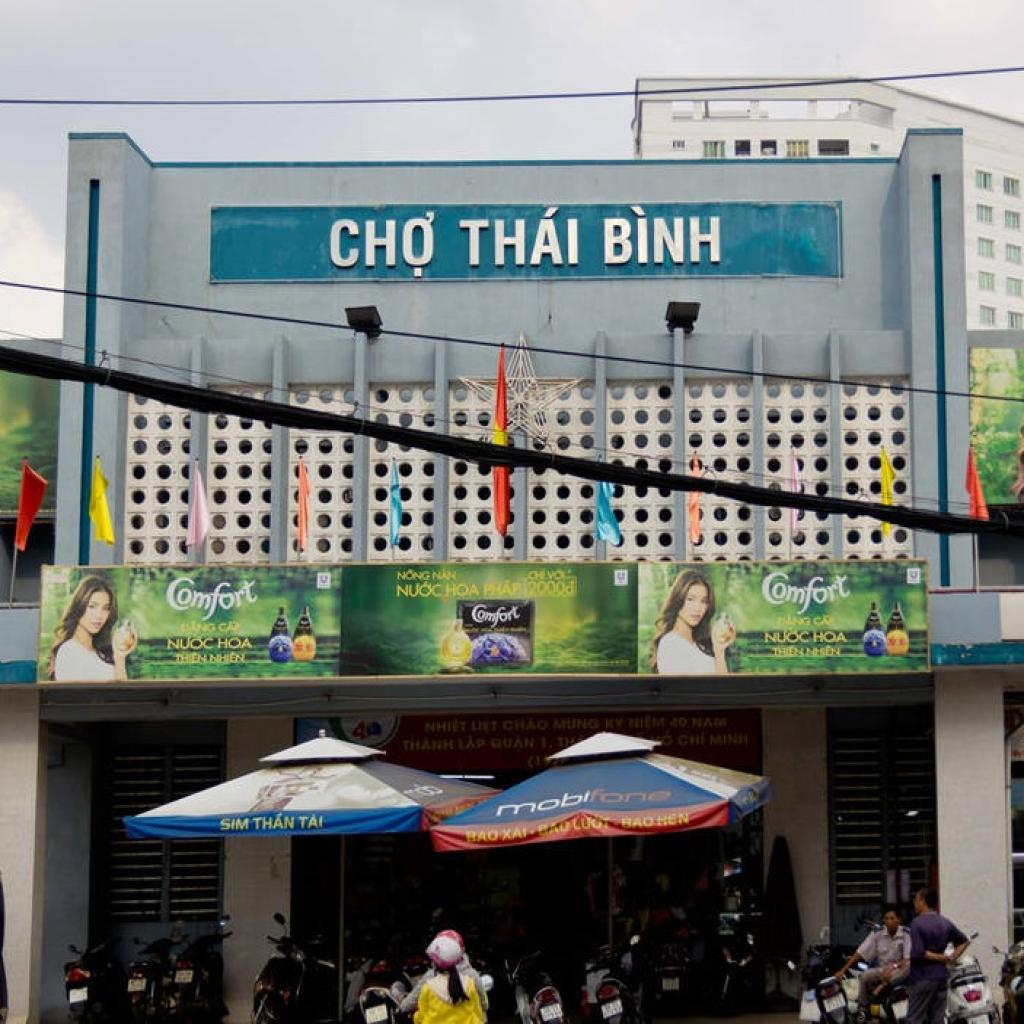text: (328, 210, 440, 281), (458, 205, 582, 269), (602, 206, 724, 268), (494, 782, 674, 820), (160, 574, 262, 622), (758, 571, 856, 616), (469, 604, 526, 628), (393, 580, 446, 600), (760, 628, 812, 648), (252, 812, 299, 834), (400, 737, 456, 754), (166, 634, 216, 652), (424, 718, 469, 738), (572, 814, 614, 835), (655, 808, 692, 831), (501, 717, 551, 734), (536, 817, 572, 840), (524, 580, 568, 598), (490, 736, 538, 752), (811, 630, 852, 648), (618, 814, 657, 832), (552, 718, 602, 732), (444, 583, 484, 600), (710, 732, 752, 748), (465, 828, 501, 846), (482, 582, 522, 598), (215, 636, 255, 651), (629, 716, 669, 731), (207, 651, 246, 666), (218, 816, 250, 834), (692, 716, 730, 731), (501, 823, 529, 843), (297, 813, 326, 832), (394, 568, 432, 581), (172, 653, 208, 666), (457, 737, 488, 752), (470, 719, 500, 734), (678, 732, 706, 748), (351, 719, 369, 743), (669, 716, 689, 731), (604, 718, 625, 732), (565, 580, 578, 600), (540, 736, 555, 752), (909, 568, 921, 581), (319, 574, 331, 584)
